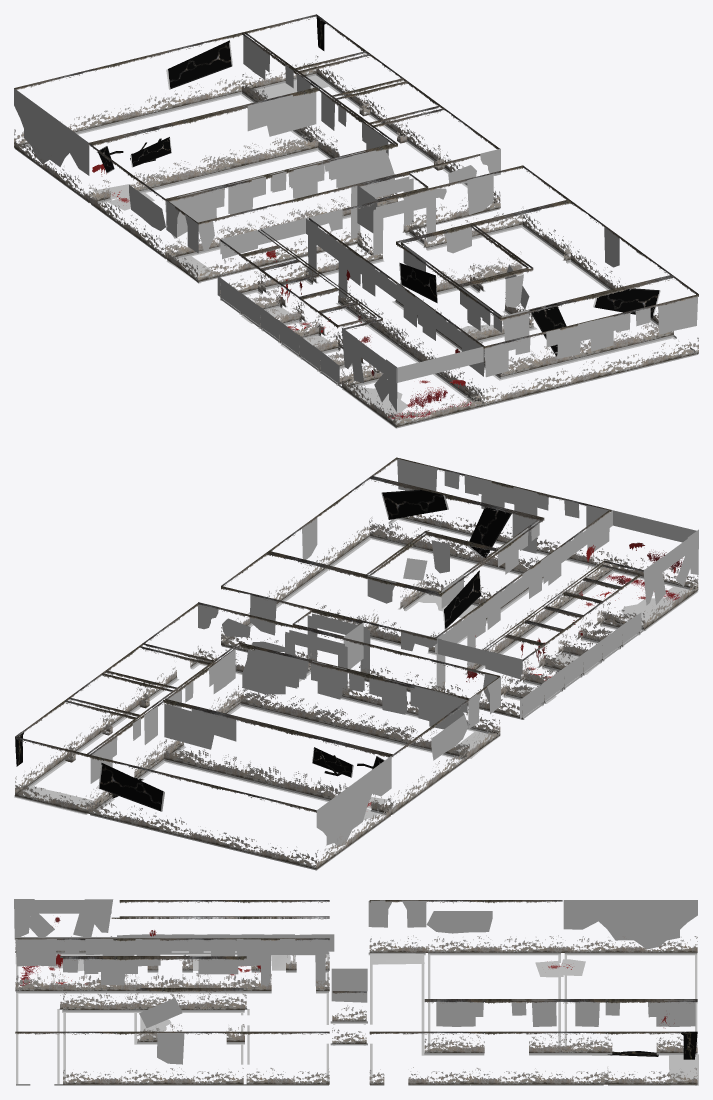
Rendered from A4_H1_Decals.FBX.
3 views of the same model, one above another, from view 1: azimuth 30°, elevation 25°; view 2: azimuth 150°, elevation 25°; view 3: azimuth 270°, elevation 25° (orthographic). The views are drawn at different scales.
Visible parts, largest first — view 1: A4_H1_Decals; view 2: A4_H1_Decals; view 3: A4_H1_Decals.
Boxes of the visible parts, left/top/right/bottom form: A4_H1_Decals: left=14, top=14, right=698, bottom=428; A4_H1_Decals: left=14, top=457, right=698, bottom=870; A4_H1_Decals: left=14, top=899, right=698, bottom=1085.
Bounding box in the file's own units: 1639 × 318 × 3571.
